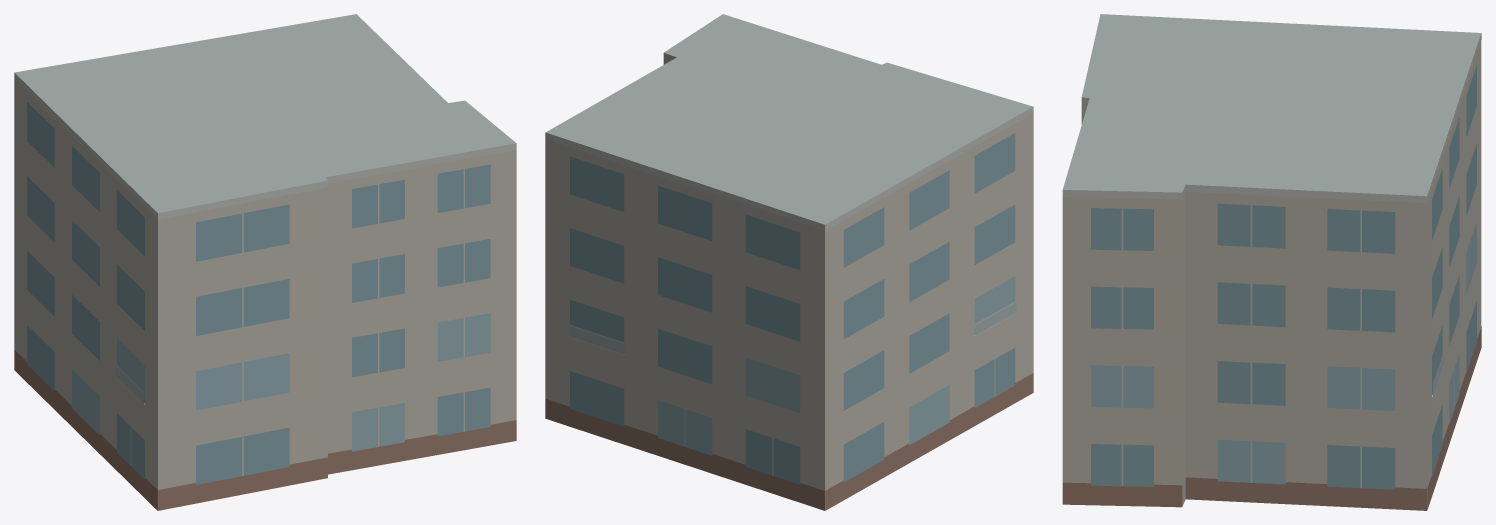
The model's file is survey-upis-32863034.glb.
3 renders of one model, left to right at view 1: azimuth 30°, elevation 25°; view 2: azimuth 150°, elevation 25°; view 3: azimuth 270°, elevation 25°, orthographic. The views are drawn at different scales.
Visible parts, largest first — view 1: survey-upis-32863034.tmp; view 2: survey-upis-32863034.tmp; view 3: survey-upis-32863034.tmp.
Part boxes in pixels (x1,y1,x2,y2): survey-upis-32863034.tmp: (14, 14, 516, 510); survey-upis-32863034.tmp: (545, 14, 1033, 510); survey-upis-32863034.tmp: (1062, 14, 1481, 510).
Bounding box in the file's own units: 13.67 × 11 × 13.28.
